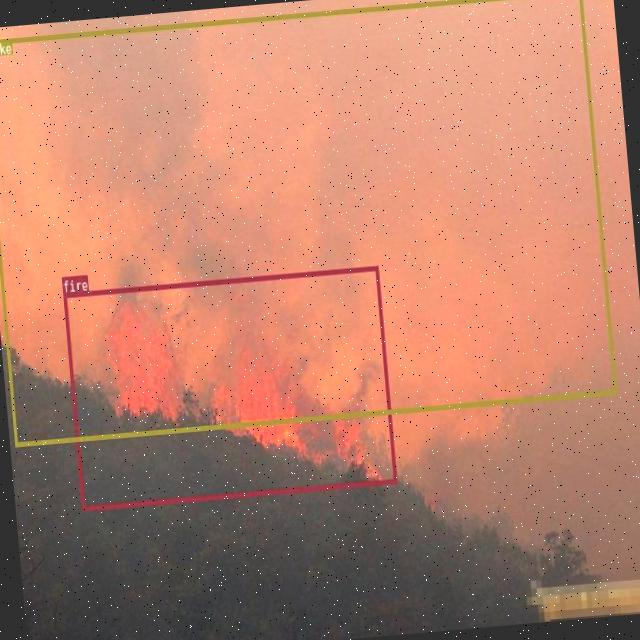fire: (62, 265, 396, 510)
smoke: (0, 0, 616, 445)
